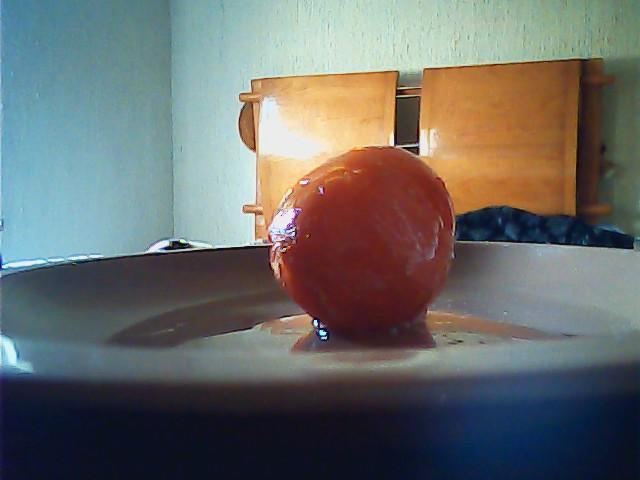maduro: (268, 147, 456, 334)
